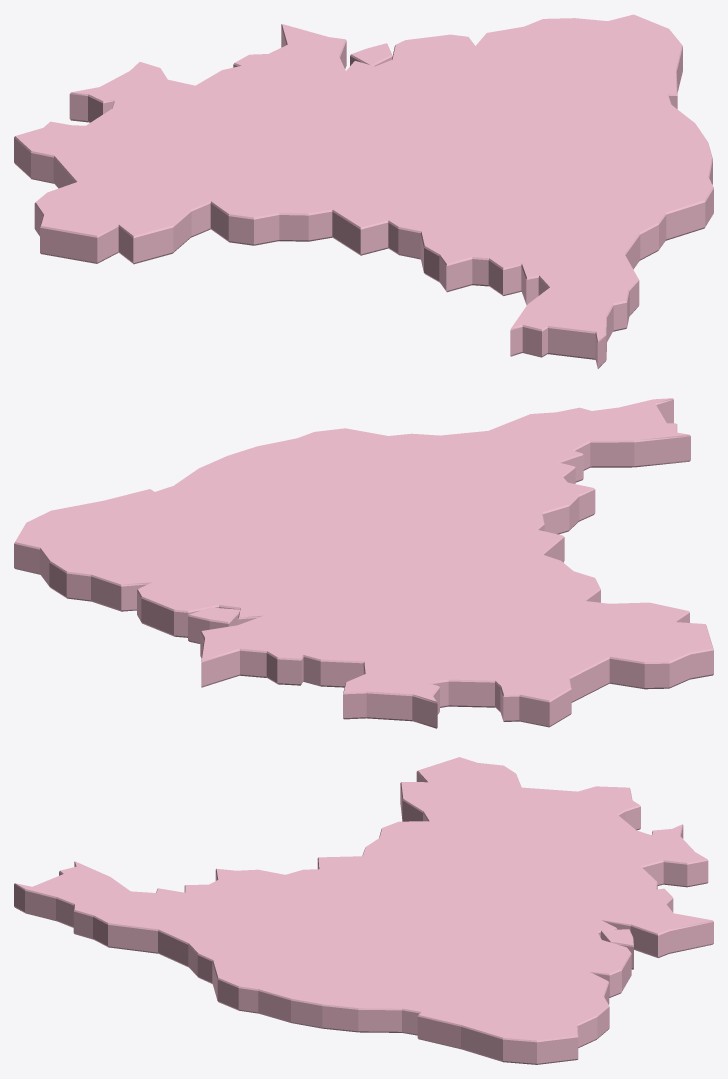
Rendered from BRA.glb.
The picture shows the model from 3 angles, top to bottom: view 1: azimuth 30°, elevation 25°; view 2: azimuth 150°, elevation 25°; view 3: azimuth 270°, elevation 25°; orthographic projection. The views are drawn at different scales.
Bounding box in the file's own units: 1.7 × 0.068 × 1.77.
